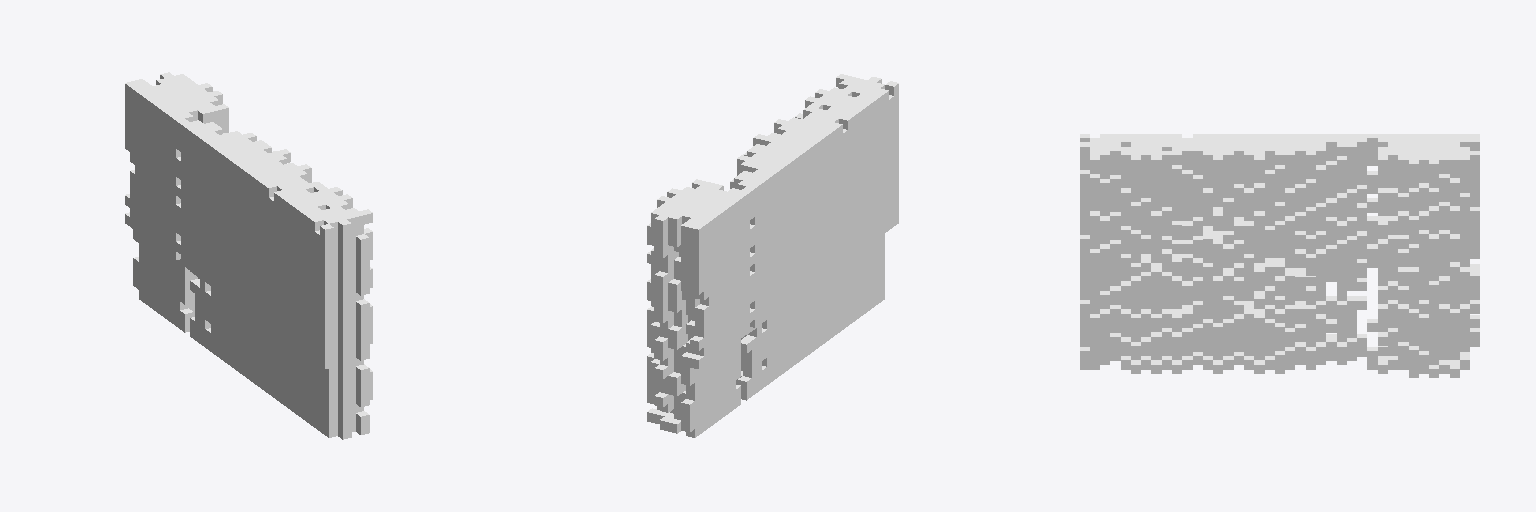
Rendered from red_rock-0-white_rock.obj.
3 views of the same model, side by side, from view 1: azimuth 30°, elevation 25°; view 2: azimuth 150°, elevation 25°; view 3: azimuth 270°, elevation 25° (orthographic).
Parts seen in each view (by area): view 1: white_rock; view 2: white_rock; view 3: white_rock.
Boxes of the visible parts, box(x1,y1,x2,y2) form: white_rock: box(125, 72, 372, 439); white_rock: box(647, 74, 898, 437); white_rock: box(1080, 134, 1479, 377).
Size of the model in its own units: 0.7 by 2.3 by 3.9.